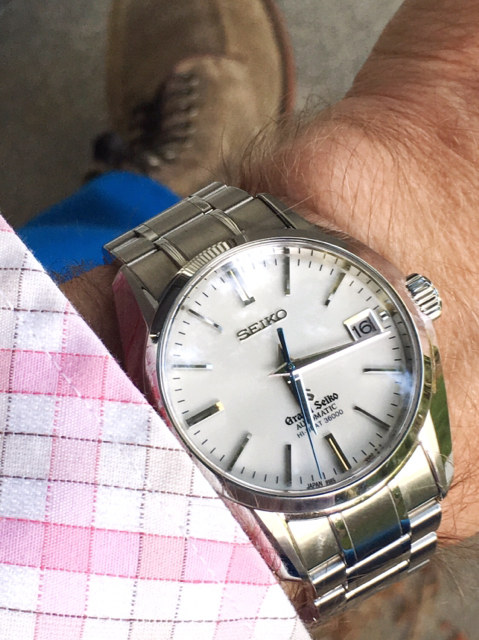clock: (160, 243, 415, 495)
